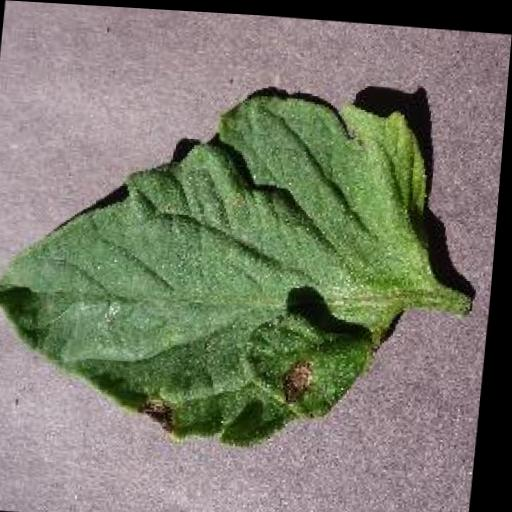Early Blight: (0, 70, 444, 455)
